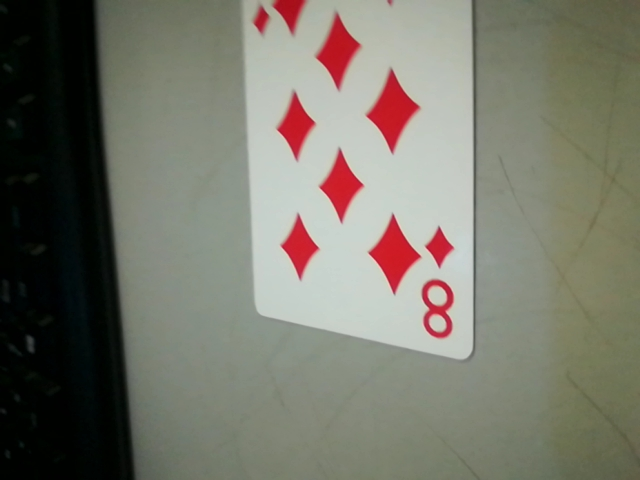fk 8: (409, 223, 467, 351)
